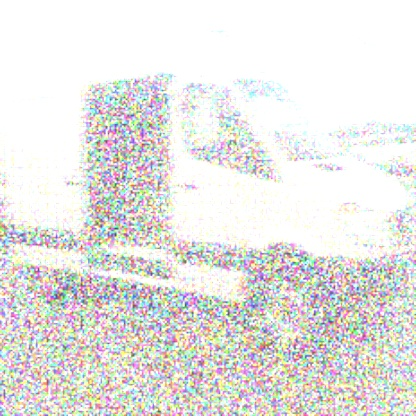Vehicle: (0, 32, 416, 354)
